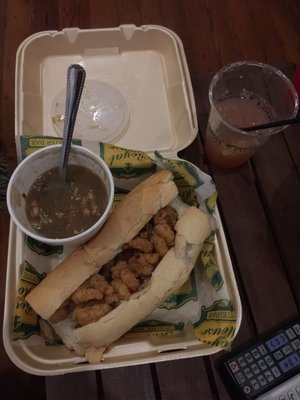pizza: (203, 60, 300, 170)
sushi: (6, 145, 116, 255)
